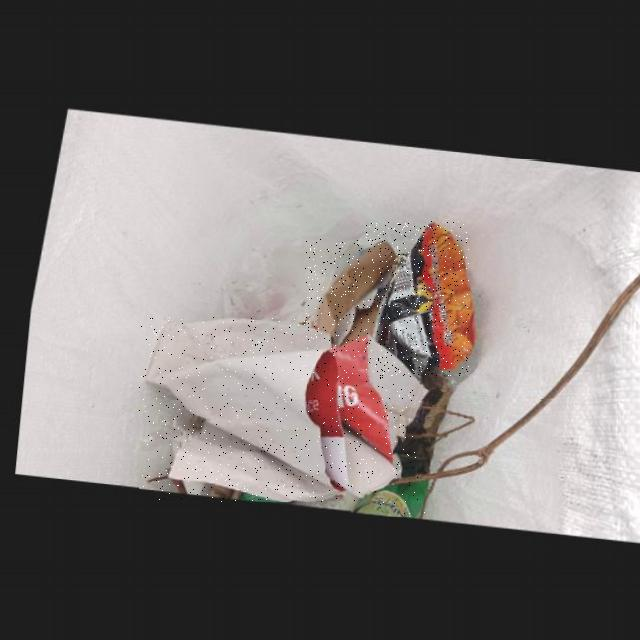paper: (139, 317, 422, 501), (305, 239, 388, 341)
plastic: (351, 478, 425, 516)
wrapper: (366, 221, 469, 375)
